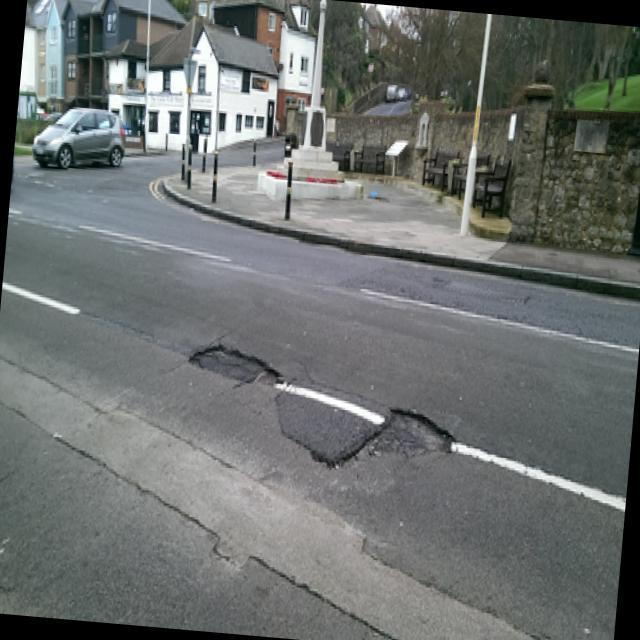Pothole: (356, 384, 458, 470), (182, 330, 288, 400)
